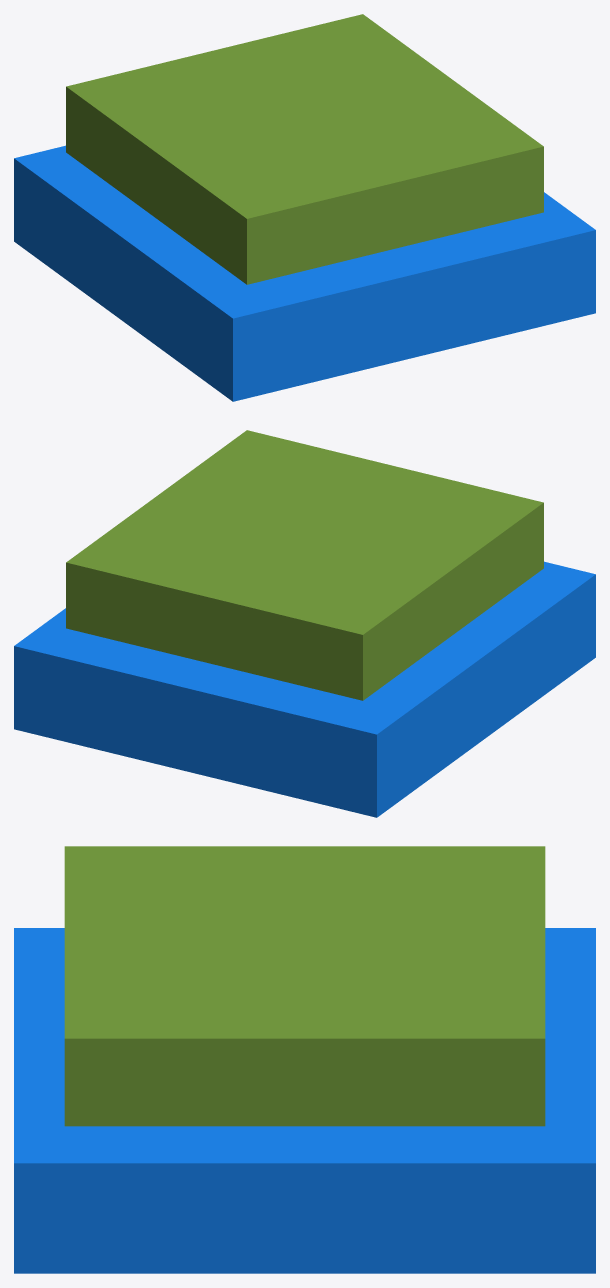
File: Statue10 Stand.fbx
3 views of the same model, one above another, from view 1: azimuth 30°, elevation 25°; view 2: azimuth 150°, elevation 25°; view 3: azimuth 270°, elevation 25° (orthographic). The views are drawn at different scales.
Visible parts, largest first — view 1: Foliage green_GIPROXY Mesh (1), blue Mesh (1); view 2: Foliage green_GIPROXY Mesh (1), blue Mesh (1); view 3: Foliage green_GIPROXY Mesh (1), blue Mesh (1).
Boxes of the visible parts, box(x1,y1,x2,y2) form: Foliage green_GIPROXY Mesh (1): box(66, 14, 543, 284); blue Mesh (1): box(14, 145, 595, 401); Foliage green_GIPROXY Mesh (1): box(66, 430, 543, 700); blue Mesh (1): box(14, 561, 595, 817); Foliage green_GIPROXY Mesh (1): box(64, 846, 545, 1126); blue Mesh (1): box(14, 928, 595, 1273).
Bounding box in the file's own units: 5.5 × 2.33 × 5.75.
